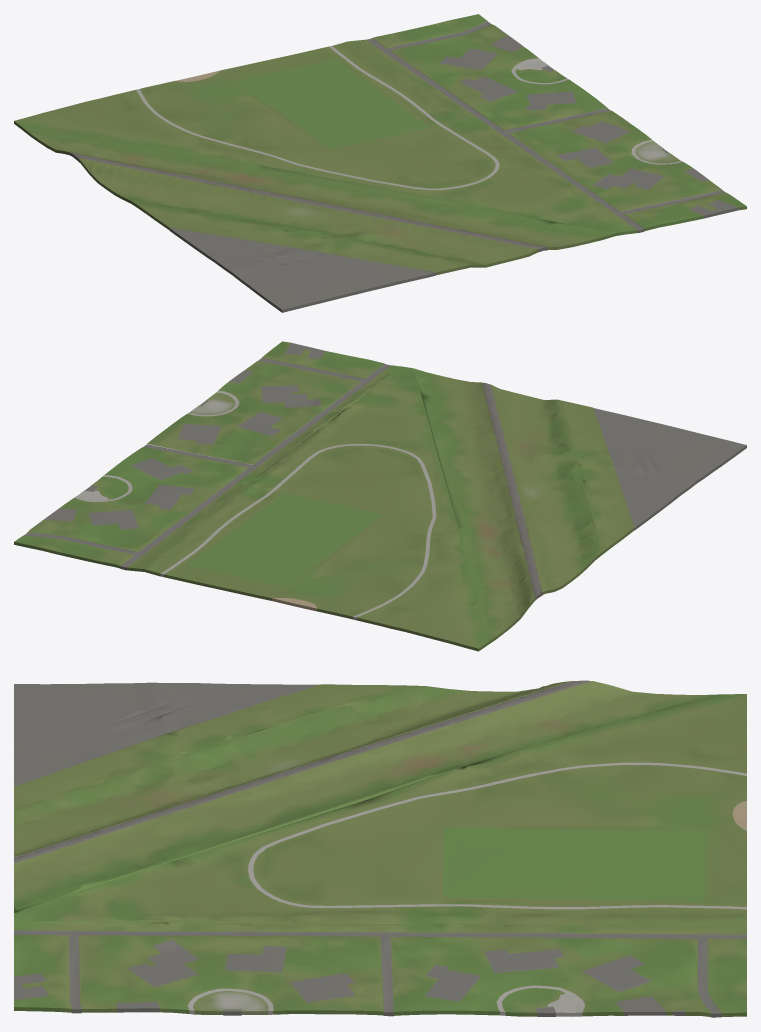
3 views of the same model, one above another, from view 1: azimuth 30°, elevation 25°; view 2: azimuth 150°, elevation 25°; view 3: azimuth 270°, elevation 25° (orthographic). The views are drawn at different scales.
Visible parts, largest first — view 1: T-2--3.L2:utd:matte; view 2: T-2--3.L2:utd:matte; view 3: T-2--3.L2:utd:matte.
Part boxes in pixels (left/top/right/bottom): T-2--3.L2:utd:matte: left=14, top=14, right=746, bottom=312; T-2--3.L2:utd:matte: left=14, top=341, right=746, bottom=651; T-2--3.L2:utd:matte: left=14, top=680, right=746, bottom=1017.
Size of the model in its own units: 256 by 10.54 by 256.
